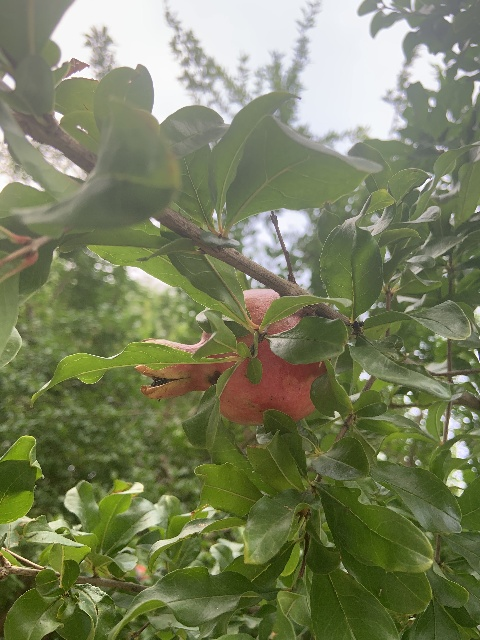ripe: (134, 289, 329, 426)
